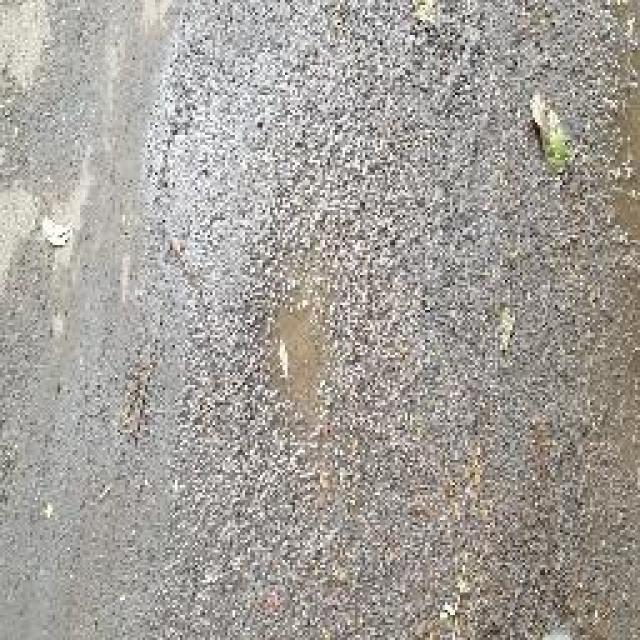stagnation: (245, 224, 346, 449)
